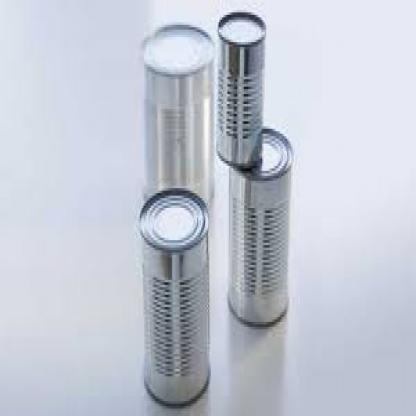METAL: (139, 186, 209, 406), (140, 22, 214, 218), (228, 126, 291, 327), (215, 10, 265, 166)
